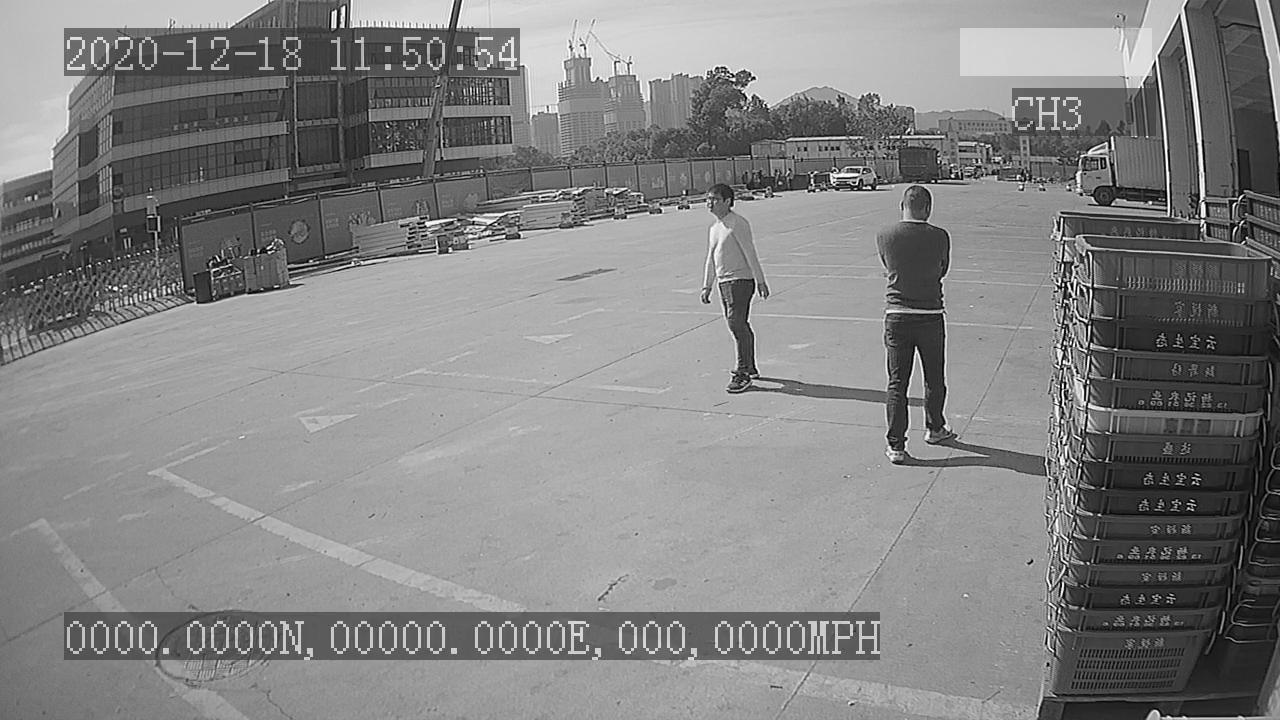person: (868, 181, 959, 470), (697, 177, 777, 399)
